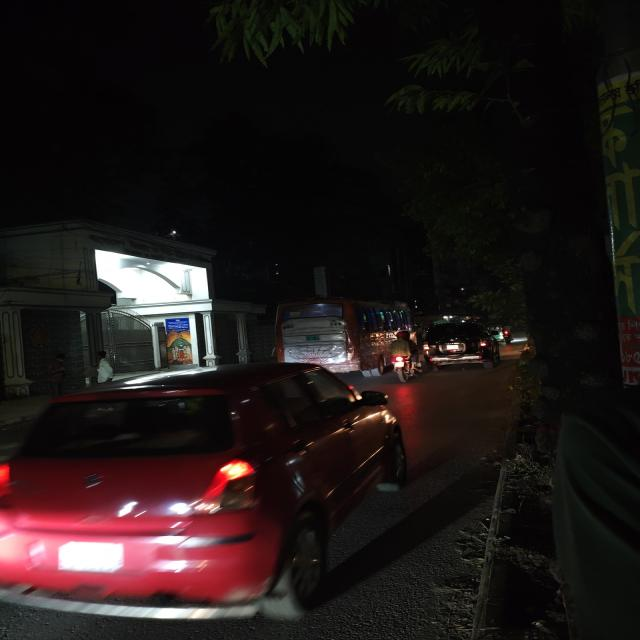bus: (272, 296, 413, 374)
car: (0, 359, 409, 627), (420, 320, 501, 373)
motorcycle: (378, 331, 421, 381), (499, 324, 514, 346)
